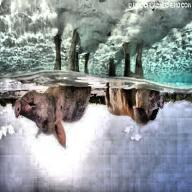boar: (15, 33, 98, 149), (103, 47, 171, 135)
